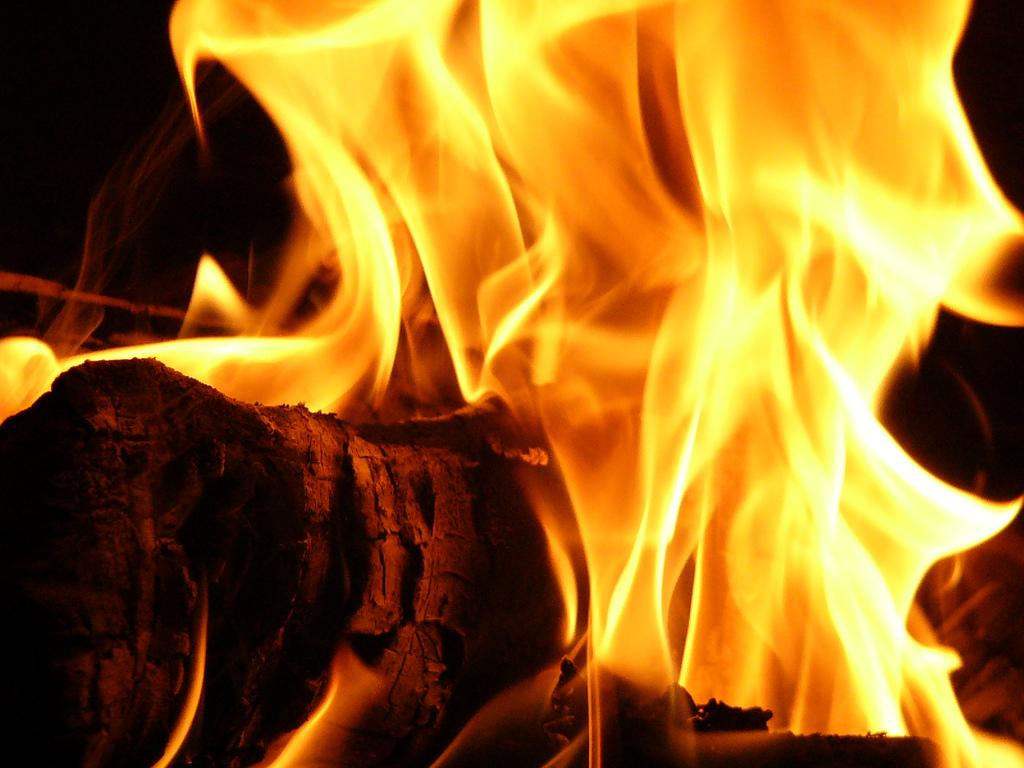fire: (306, 2, 932, 430), (606, 444, 940, 730)
